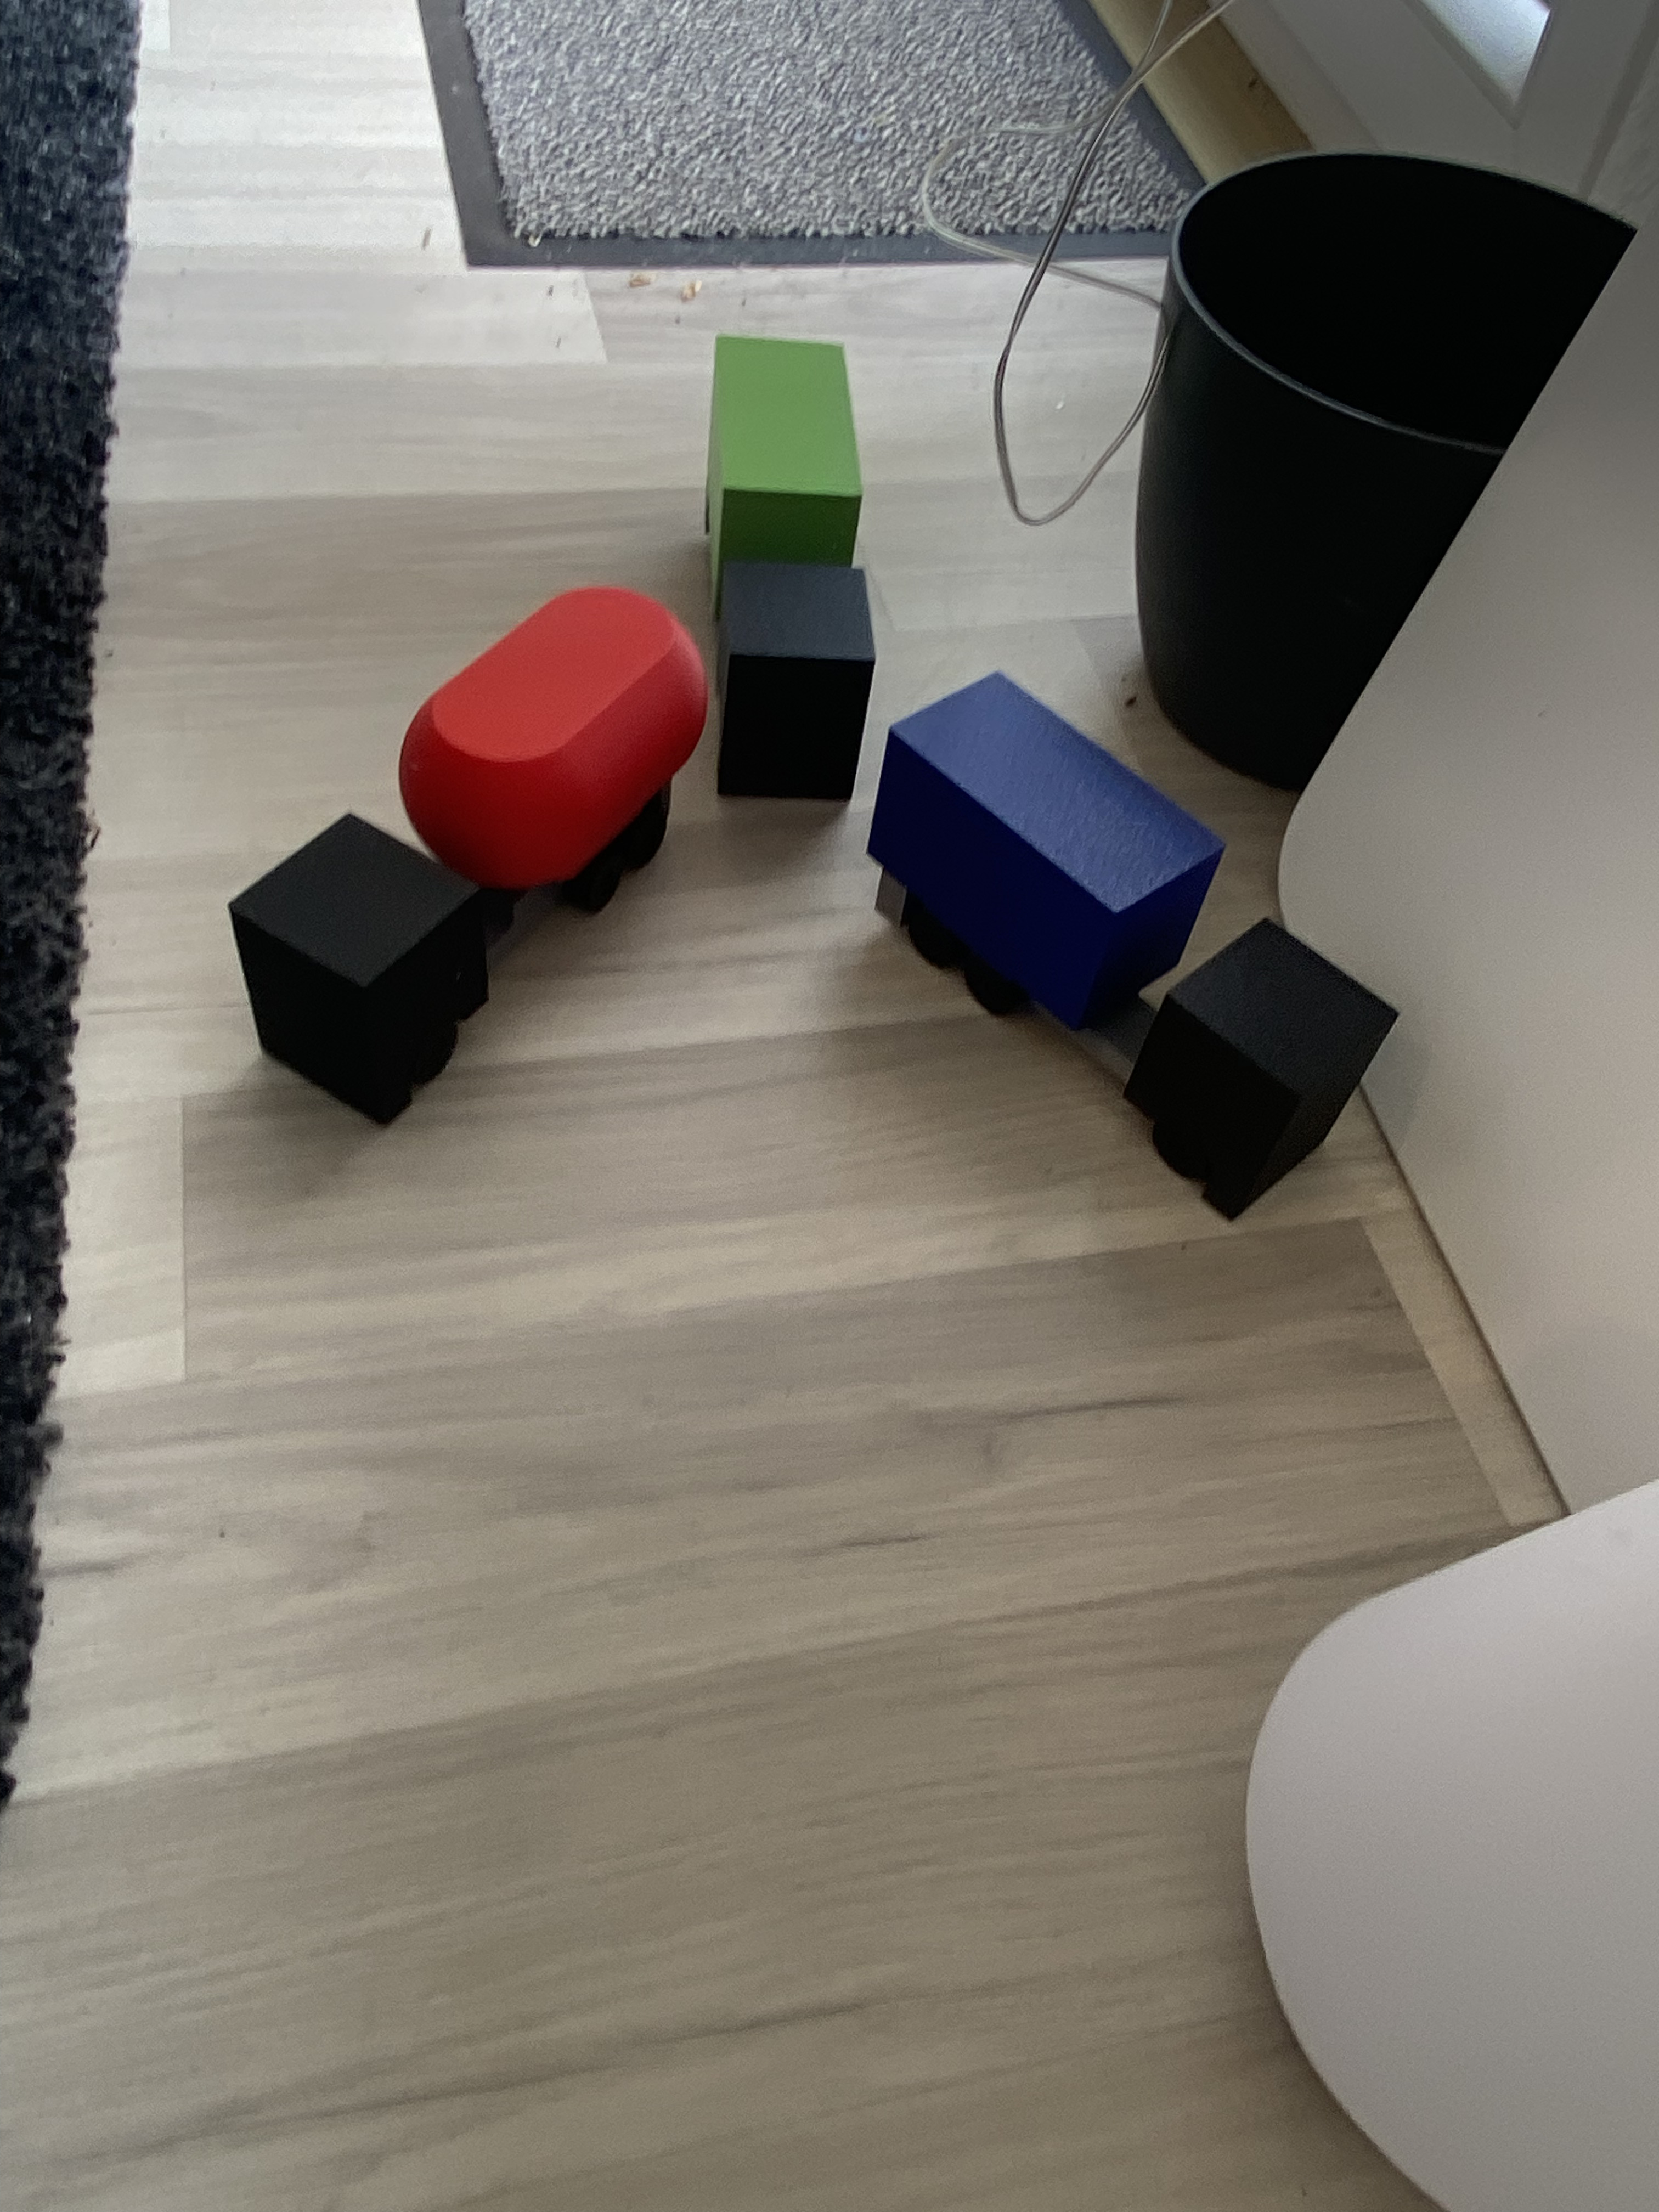blue_truck: (969, 629, 1249, 1219)
green_truck: (559, 479, 1026, 643)
red_truck: (317, 528, 633, 1136)
